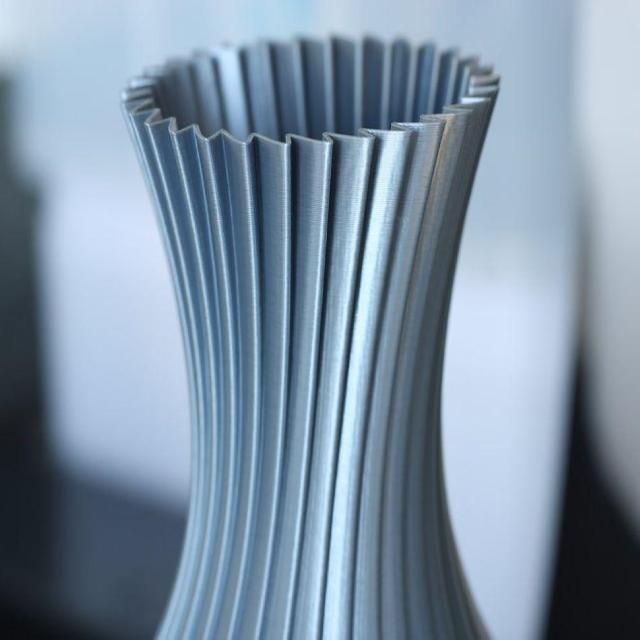Without deffect: (88, 24, 535, 640)
